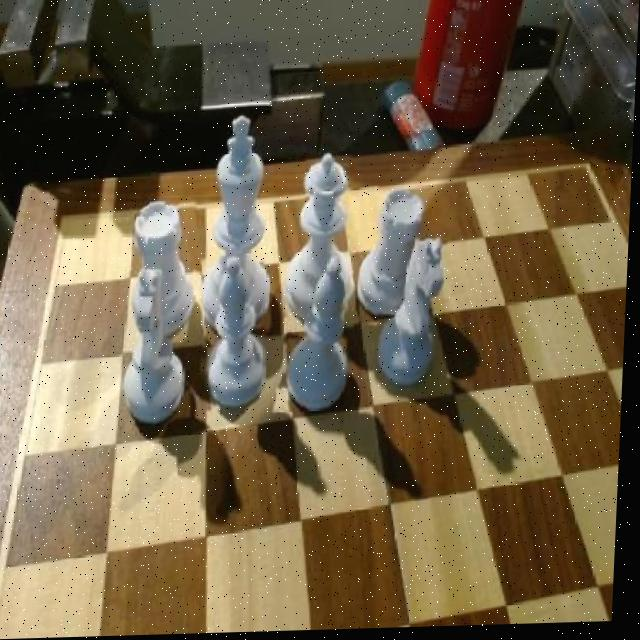black-rook: (285, 261, 360, 415), (199, 253, 272, 411)
white-bishop: (204, 113, 276, 327)
white-king: (124, 267, 198, 430), (378, 234, 450, 391)
white-pawn: (282, 155, 356, 320)
white-queen: (129, 200, 202, 339), (355, 188, 429, 316)
